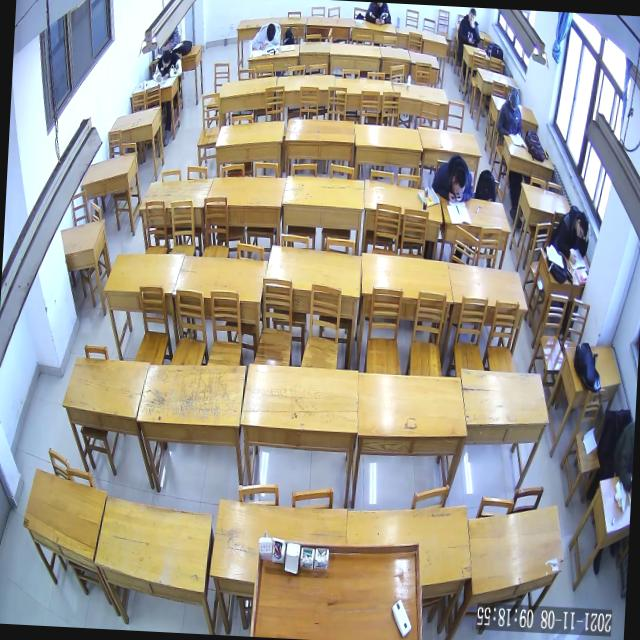bow: (430, 153, 476, 204), (251, 19, 283, 54), (152, 48, 183, 84)
down: (451, 165, 468, 200), (575, 210, 590, 240), (508, 87, 522, 113), (264, 22, 278, 44), (161, 50, 172, 70)
lookup: (467, 8, 477, 25)
sit: (552, 204, 592, 266), (495, 84, 525, 138), (456, 8, 483, 48)
